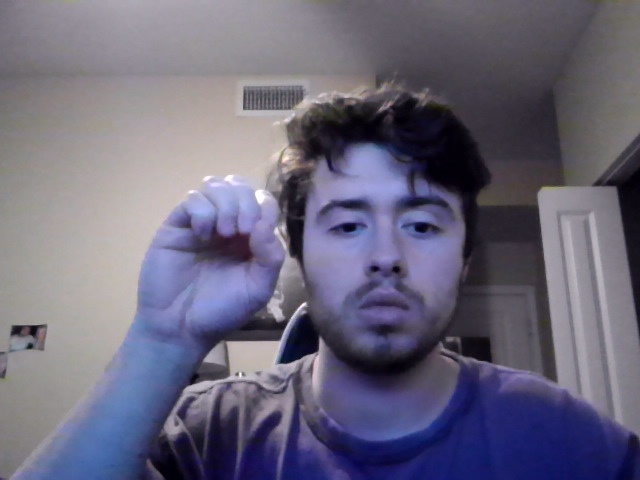o: (135, 174, 286, 362)
